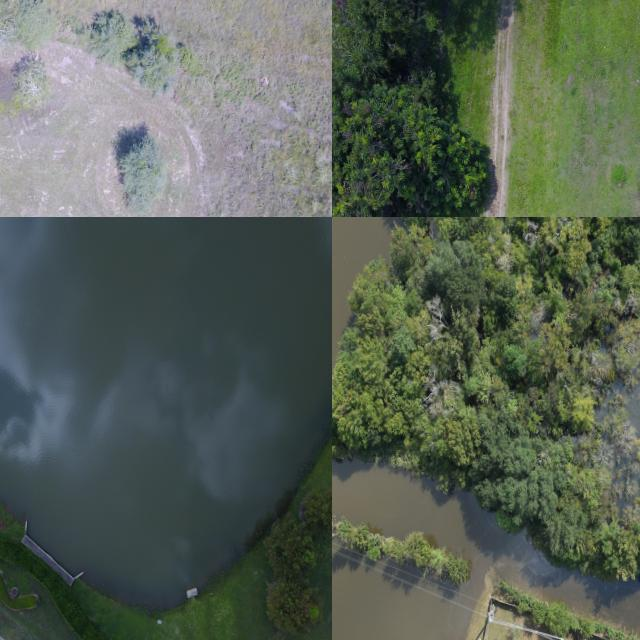fire: (0, 217, 332, 607), (332, 460, 640, 640)
